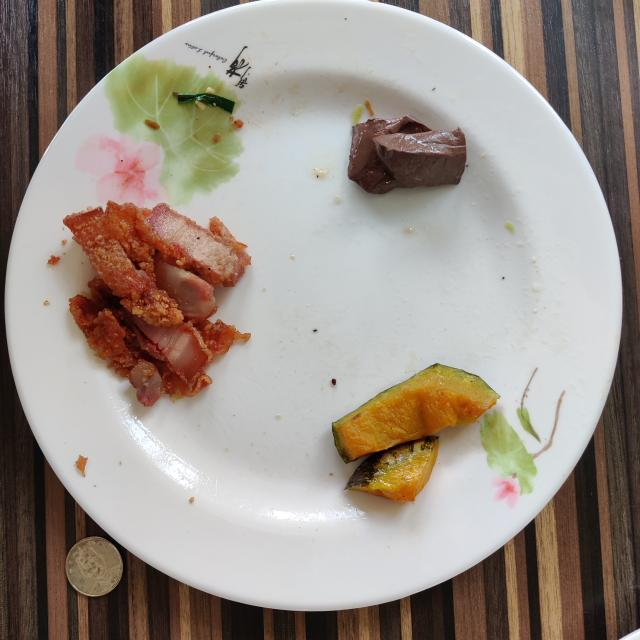coin: (65, 536, 122, 596)
pig blood curd: (348, 115, 466, 194)
pumpkin: (332, 364, 499, 502)
red grilled pork: (64, 201, 251, 406)
